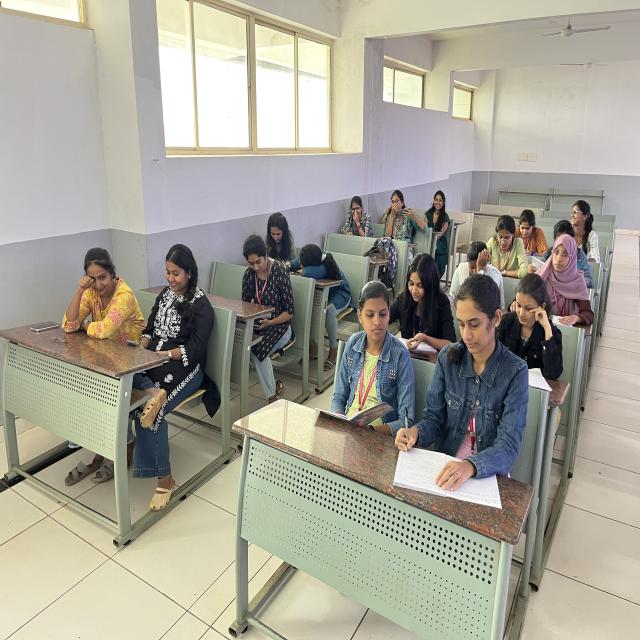Reading: (316, 272, 410, 436), (387, 247, 451, 357), (261, 210, 301, 265)
Using Phone: (230, 230, 298, 351), (383, 188, 423, 245), (513, 206, 548, 258)
Writing: (402, 258, 518, 511), (493, 266, 566, 384), (533, 233, 589, 329)
